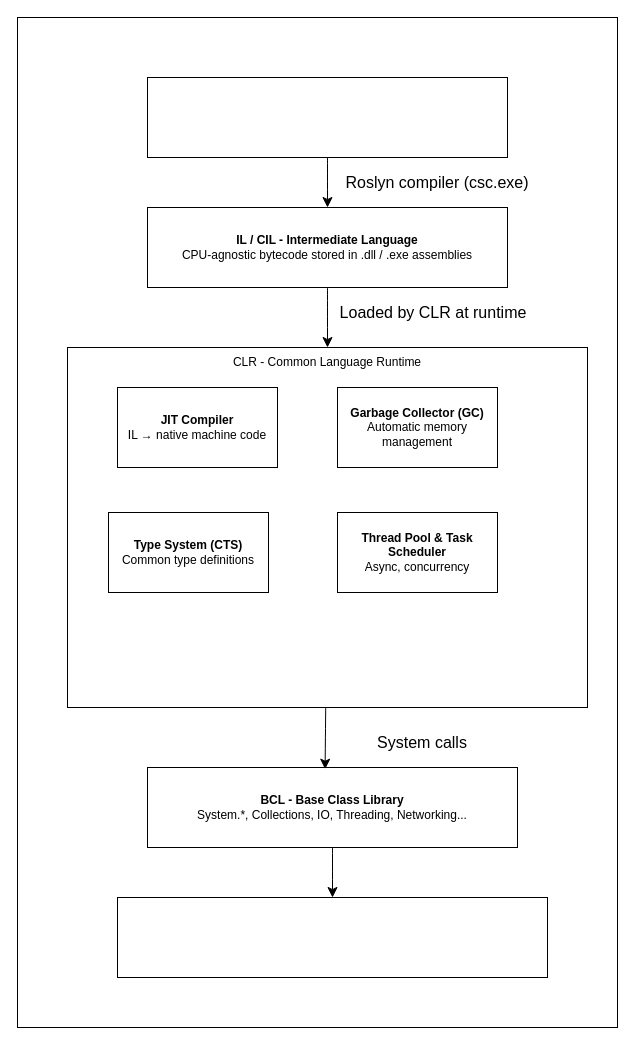
Image size: 635x1045. Some labels were removed from this diagram. The centre of each missing label's shape, as x and y in pixels:
Operating System + CPU (Windows / Linux / macOS / ARM / x64: point (332, 937)
Your C# / F# / VB.Net Source code High-level, Human-readable language: point (327, 117)
